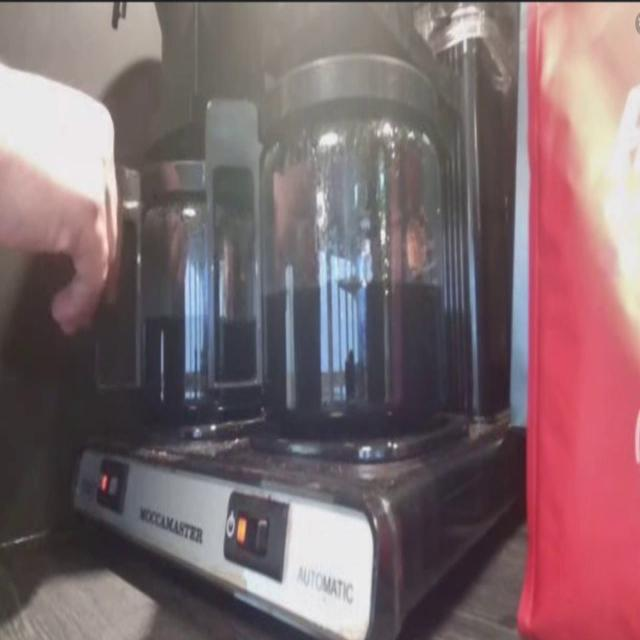coffee: (254, 160, 446, 422), (139, 224, 258, 418)
